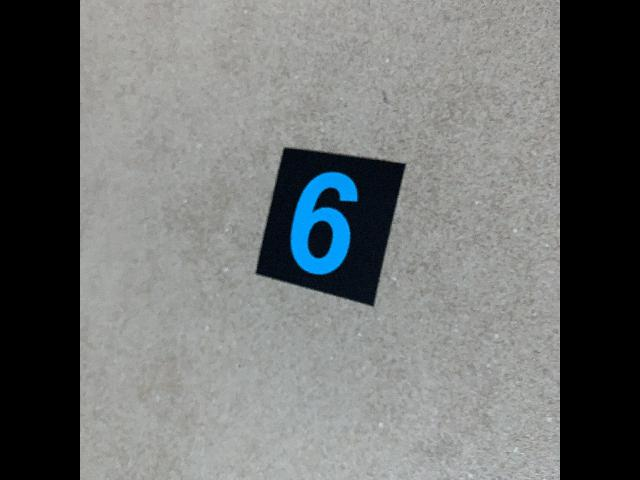six: (252, 146, 407, 312)
